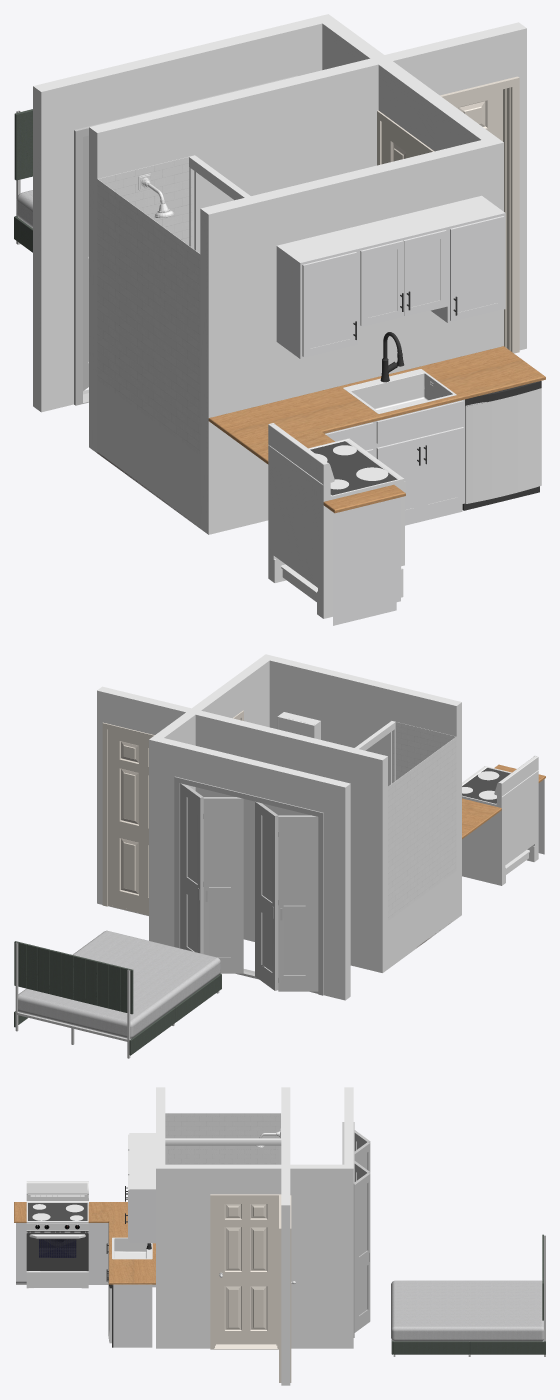
The model's file is interiors.glb.
3 renders of one model, top to bottom at view 1: azimuth 30°, elevation 25°; view 2: azimuth 150°, elevation 25°; view 3: azimuth 270°, elevation 25°, orthographic. The views are drawn at different scales.
Parts seen in each view (by area): view 1: GF_interiorwall, kitchenette_white.001, bathtub_ceramics, bathroom sink_porcelein, kitchenette_wood, kitchenette_metal.001, bathtub, door1_frame, grey_door, bathtub_metal, bed_grey, Layer0.001 (+4 smaller); view 2: GF_interiorwall, grey_door, bathtub_ceramics, bed_white, bathroom sink_porcelein, wood-door1, bed_grey, bathtub, door1_frame, bed_metal, kitchenette_wood, Layer0.001 (+2 smaller); view 3: GF_interiorwall, bed_white, wood-door2, bathroom sink_porcelein, kitchenette_white.001, bathtub_ceramics, grey_door, Layer0.001, kitchenette_wood, bed_grey, door2_frame, bathtub_metal (+3 smaller).
Boxes of the visible parts, x1,y1,x2,y2 form: GF_interiorwall: [33, 14, 526, 534]; kitchenette_white.001: [276, 195, 505, 525]; bathtub_ceramics: [97, 157, 200, 455]; bathroom sink_porcelein: [268, 423, 405, 625]; kitchenette_wood: [208, 346, 545, 513]; kitchenette_metal.001: [343, 369, 541, 503]; bathtub: [97, 381, 200, 528]; door1_frame: [440, 76, 519, 353]; grey_door: [74, 75, 297, 405]; bathtub_metal: [138, 155, 250, 250]; bed_grey: [14, 109, 32, 252]; Layer0.001: [310, 441, 397, 495]; GF_interiorwall: [97, 654, 461, 1000]; grey_door: [174, 776, 323, 995]; bathtub_ceramics: [388, 722, 456, 920]; bed_white: [18, 930, 220, 1038]; bathroom sink_porcelein: [462, 755, 544, 885]; wood-door1: [108, 729, 148, 913]; bed_grey: [14, 941, 221, 1055]; bathtub: [388, 871, 456, 968]; door1_frame: [102, 722, 154, 915]; bed_metal: [15, 942, 219, 1058]; kitchenette_wood: [462, 764, 545, 838]; Layer0.001: [462, 768, 510, 803]; GF_interiorwall: [156, 1087, 353, 1385]; bed_white: [391, 1280, 544, 1341]; wood-door2: [216, 1199, 276, 1344]; bathroom sink_porcelein: [16, 1181, 108, 1288]; kitchenette_white.001: [113, 1133, 155, 1347]; bathtub_ceramics: [165, 1113, 281, 1164]; grey_door: [342, 1122, 370, 1337]; Layer0.001: [26, 1203, 88, 1270]; kitchenette_wood: [14, 1202, 155, 1284]; bed_grey: [391, 1234, 545, 1354]; door2_frame: [210, 1194, 281, 1349]; bathtub_metal: [165, 1128, 281, 1164].
Bounding box in the file's own units: 3.45 × 2.47 × 6.58.
30 materials, 9 textured.
